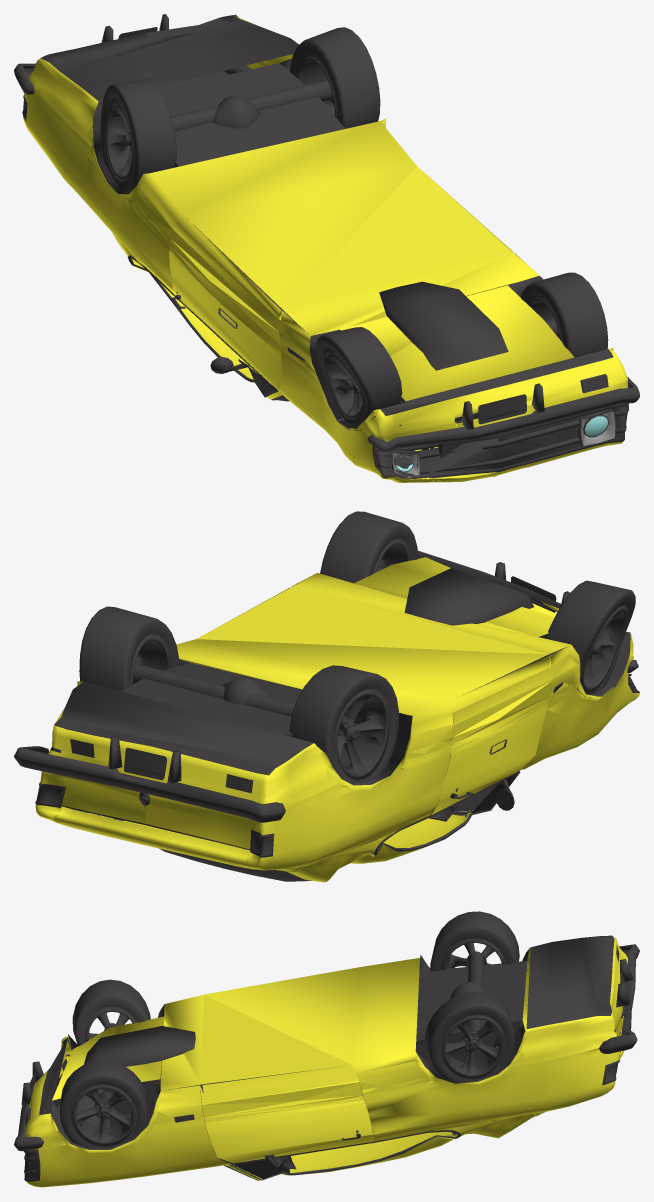
Rendered from Carro_capotado.fbx.
The picture shows the model from 3 angles, top to bottom: view 1: azimuth 30°, elevation 25°; view 2: azimuth 150°, elevation 25°; view 3: azimuth 270°, elevation 25°; orthographic projection. The views are drawn at different scales.
Visible parts, largest first — view 1: ID3428.002; view 2: ID3428.002; view 3: ID3428.002.
Boxes of the visible parts, x1,y1,x2,y2 form: ID3428.002: (14, 14, 639, 482); ID3428.002: (14, 511, 639, 882); ID3428.002: (14, 911, 639, 1187).
Bounding box in the file's own units: 1.58 × 1.29 × 3.79.
Materials: 5 (5 with a texture image).
